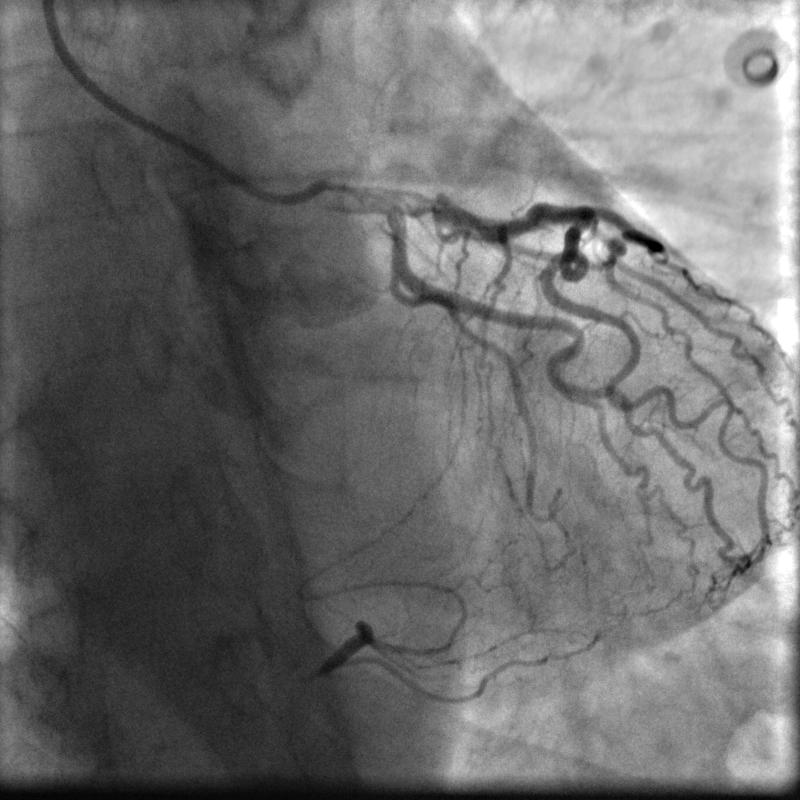Stenosis: (411, 186, 450, 219)
